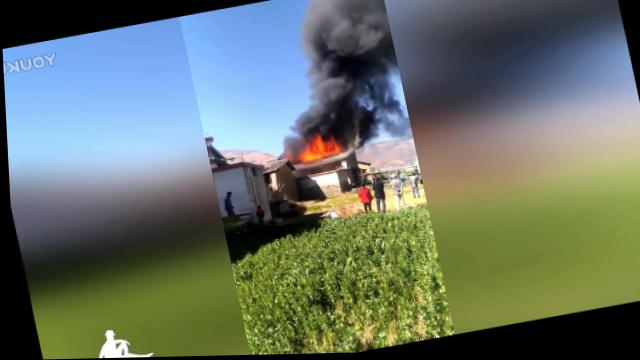fire: (315, 136, 341, 156), (297, 144, 319, 163)
